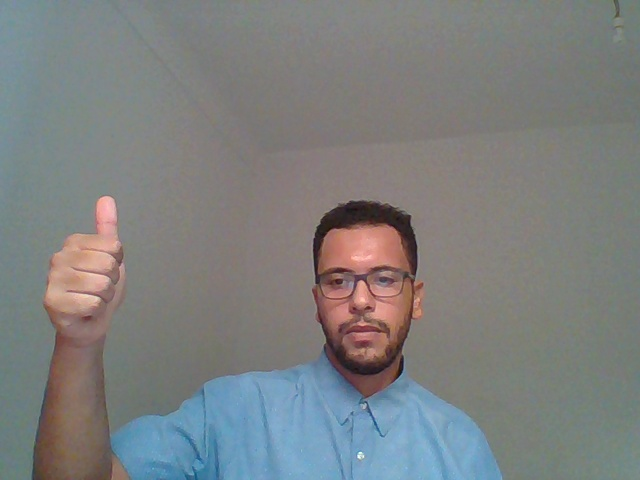ok: (11, 172, 158, 470)
